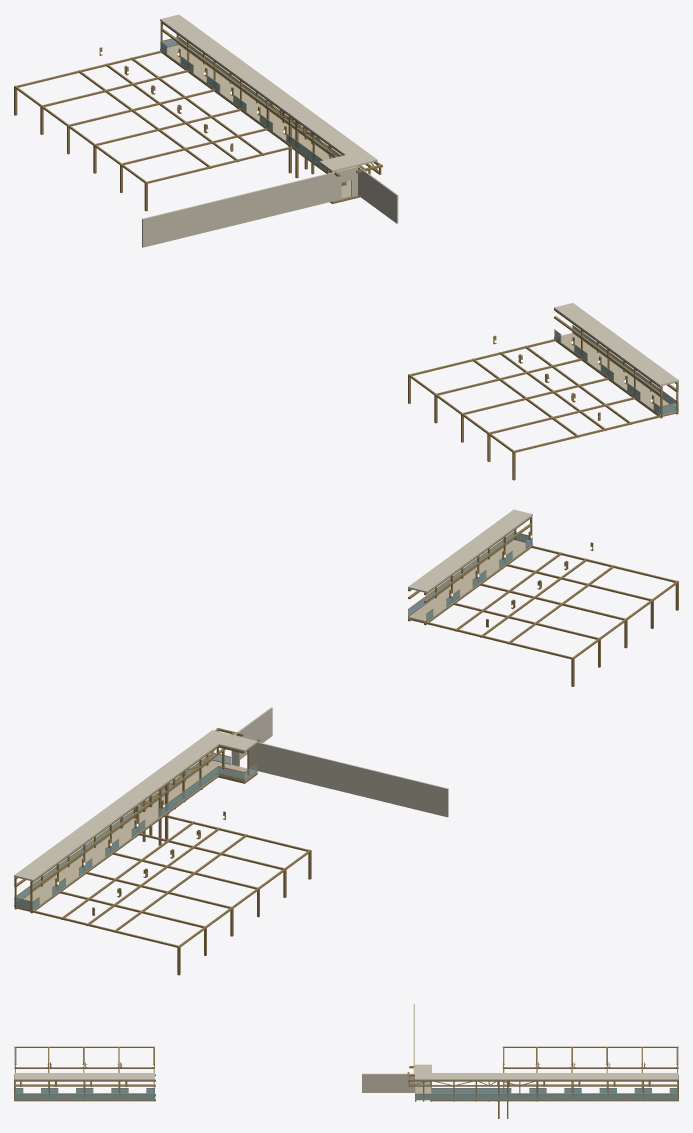
Rendered from STAR_ATLAS_D17_STANDARD_BATCH_FRAME_r002.glb.
3 views of the same model, one above another, from view 1: azimuth 30°, elevation 25°; view 2: azimuth 150°, elevation 25°; view 3: azimuth 270°, elevation 25° (orthographic). The views are drawn at different scales.
Parts seen in each view (by area): view 1: SAB_North_D17R_SouthWallReceived, SAB_North_D17R_EastWallReceived, SAB_Fore_StreetRoof0_005_0, SAB_Aft_StreetRoof0_000_0, SAB_Aft_StreetRoof0_001_0, SAB_Fore_StreetRoof0_004_0, SAB_Fore_StreetRoof0_008_0, SAB_Fore_StreetFloor0_005_0, SAB_Aft_StreetFloor0_000_0, SAB_Fore_StreetRoof0_009_0, SAB_Fore_StreetFloor0_004_0, SAB_Aft_StreetFloor0_001_0; view 2: SAB_North_D17R_SouthWallReceived, SAB_Fore_StreetRoof0_005_0, SAB_Aft_StreetRoof0_000_0, SAB_Aft_StreetRoof0_001_0, SAB_Fore_StreetRoof0_004_0, SAB_Aft_StreetFloor0_000_0, SAB_Fore_StreetRoof0_008_0, SAB_Aft_StreetFloor0_001_0, SAB_Fore_StreetFloor0_004_0, SAB_Fore_StreetFloor0_005_0, SAB_Fore_StreetRoof0_009_0, SAB_North_D17R_EastWallReceived; view 3: SAB_Fore_OuterGuard_001_0, SAB_Fore_OuterGuard_000_0, SAB_North_D17R_EastWallReceived, SAB_Aft_StreetRoof0_001_0, SAB_Fore_StreetRoof0_004_0, SAB_Aft_OuterGuard_001_0, SAB_Aft_OuterGuard_000_0, SAB_Fore_StreetRoof0_009_0, SAB_Fore_StreetRoof0_005_0, SAB_Aft_StreetRoof0_000_0, SAB_Fore_OuterGuard_Base_001_0, SAB_Fore_InnerGuard5_001_0 (+19 smaller).
Part boxes in pixels (x1=…): SAB_North_D17R_SouthWallReceived: x1=142, y1=166, x2=358, y2=247; SAB_North_D17R_EastWallReceived: x1=358, y1=166, x2=398, y2=223; SAB_Fore_StreetRoof0_005_0: x1=160, y1=14, x2=265, y2=97; SAB_Aft_StreetRoof0_000_0: x1=554, y1=303, x2=659, y2=386; SAB_Aft_StreetRoof0_001_0: x1=575, y1=304, x2=678, y2=386; SAB_Fore_StreetRoof0_004_0: x1=180, y1=15, x2=284, y2=96; SAB_Fore_StreetRoof0_008_0: x1=266, y1=92, x2=345, y2=155; SAB_Fore_StreetFloor0_005_0: x1=160, y1=45, x2=265, y2=127; SAB_Aft_StreetFloor0_000_0: x1=554, y1=333, x2=659, y2=415; SAB_Fore_StreetRoof0_009_0: x1=286, y1=93, x2=364, y2=154; SAB_Fore_StreetFloor0_004_0: x1=182, y1=47, x2=282, y2=124; SAB_Aft_StreetFloor0_001_0: x1=577, y1=336, x2=678, y2=415; SAB_North_D17R_SouthWallReceived: x1=231, y1=742, x2=448, y2=817; SAB_Fore_StreetRoof0_005_0: x1=14, y1=802, x2=138, y2=881; SAB_Aft_StreetRoof0_000_0: x1=408, y1=514, x2=532, y2=592; SAB_Aft_StreetRoof0_001_0: x1=409, y1=509, x2=532, y2=585; SAB_Fore_StreetRoof0_004_0: x1=15, y1=798, x2=138, y2=874; SAB_Aft_StreetFloor0_000_0: x1=408, y1=544, x2=532, y2=622; SAB_Fore_StreetRoof0_008_0: x1=120, y1=744, x2=218, y2=803; SAB_Aft_StreetFloor0_001_0: x1=413, y1=540, x2=525, y2=613; SAB_Fore_StreetFloor0_004_0: x1=23, y1=828, x2=131, y2=899; SAB_Fore_StreetFloor0_005_0: x1=14, y1=832, x2=138, y2=910; SAB_Fore_StreetRoof0_009_0: x1=121, y1=739, x2=218, y2=796; SAB_North_D17R_EastWallReceived: x1=231, y1=707, x2=272, y2=764; SAB_Fore_OuterGuard_001_0: x1=415, y1=1094, x2=678, y2=1098; SAB_Fore_OuterGuard_000_0: x1=415, y1=1094, x2=677, y2=1098; SAB_North_D17R_EastWallReceived: x1=362, y1=1073, x2=414, y2=1092; SAB_Aft_StreetRoof0_001_0: x1=14, y1=1073, x2=154, y2=1080; SAB_Fore_StreetRoof0_004_0: x1=538, y1=1073, x2=678, y2=1080; SAB_Aft_OuterGuard_001_0: x1=14, y1=1094, x2=155, y2=1098; SAB_Aft_OuterGuard_000_0: x1=15, y1=1094, x2=154, y2=1098; SAB_Fore_StreetRoof0_009_0: x1=432, y1=1073, x2=537, y2=1080; SAB_Fore_StreetRoof0_005_0: x1=539, y1=1073, x2=678, y2=1079; SAB_Aft_StreetRoof0_000_0: x1=15, y1=1073, x2=154, y2=1079; SAB_Fore_OuterGuard_Base_001_0: x1=415, y1=1098, x2=677, y2=1099; SAB_Fore_InnerGuard5_001_0: x1=431, y1=1088, x2=511, y2=1092.
Bounding box in the file's own units: 37 × 9 × 136.
8 materials, 5 textured.
